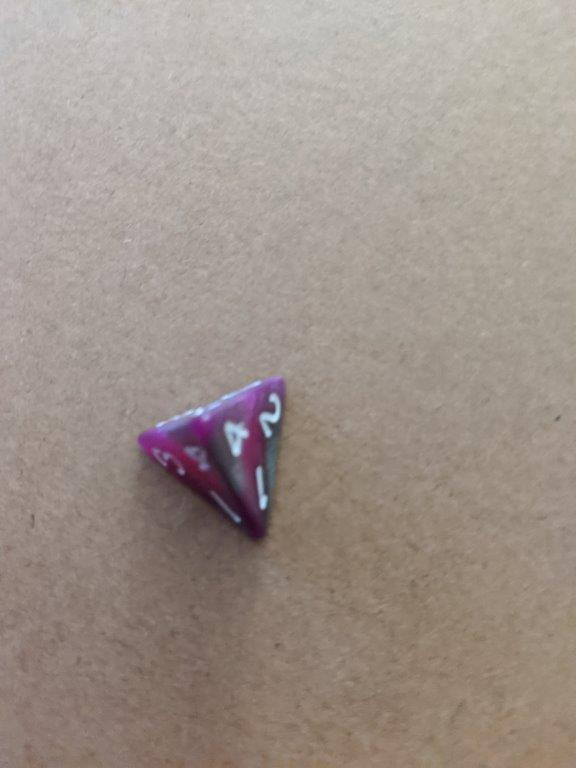d4-4: (138, 370, 285, 547)
